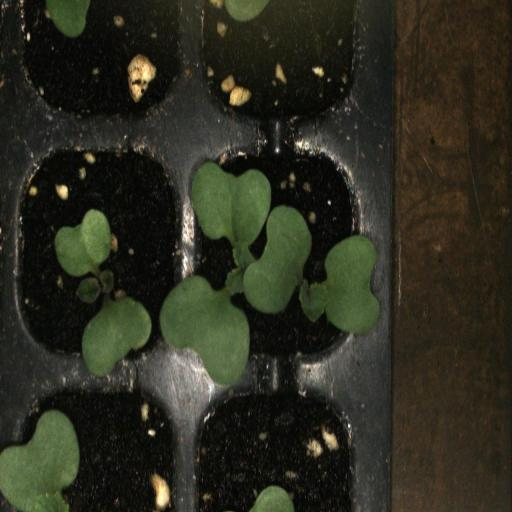seedling: (10, 136, 195, 372)
twoseedling: (194, 136, 374, 378)
